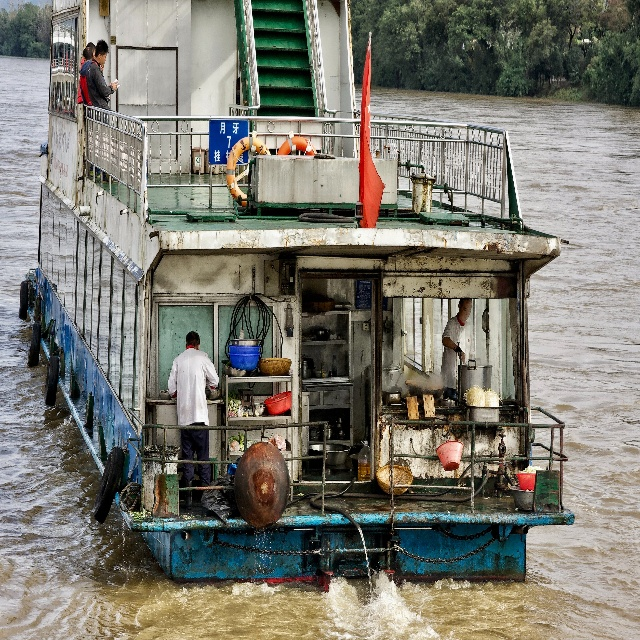Sin_guantes: (457, 347, 466, 365), (111, 80, 119, 91), (99, 64, 105, 73)
